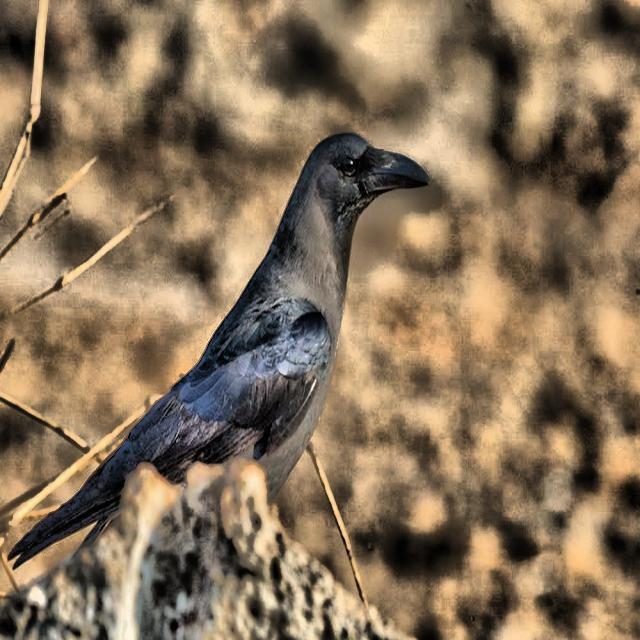crow: (9, 97, 421, 631)
